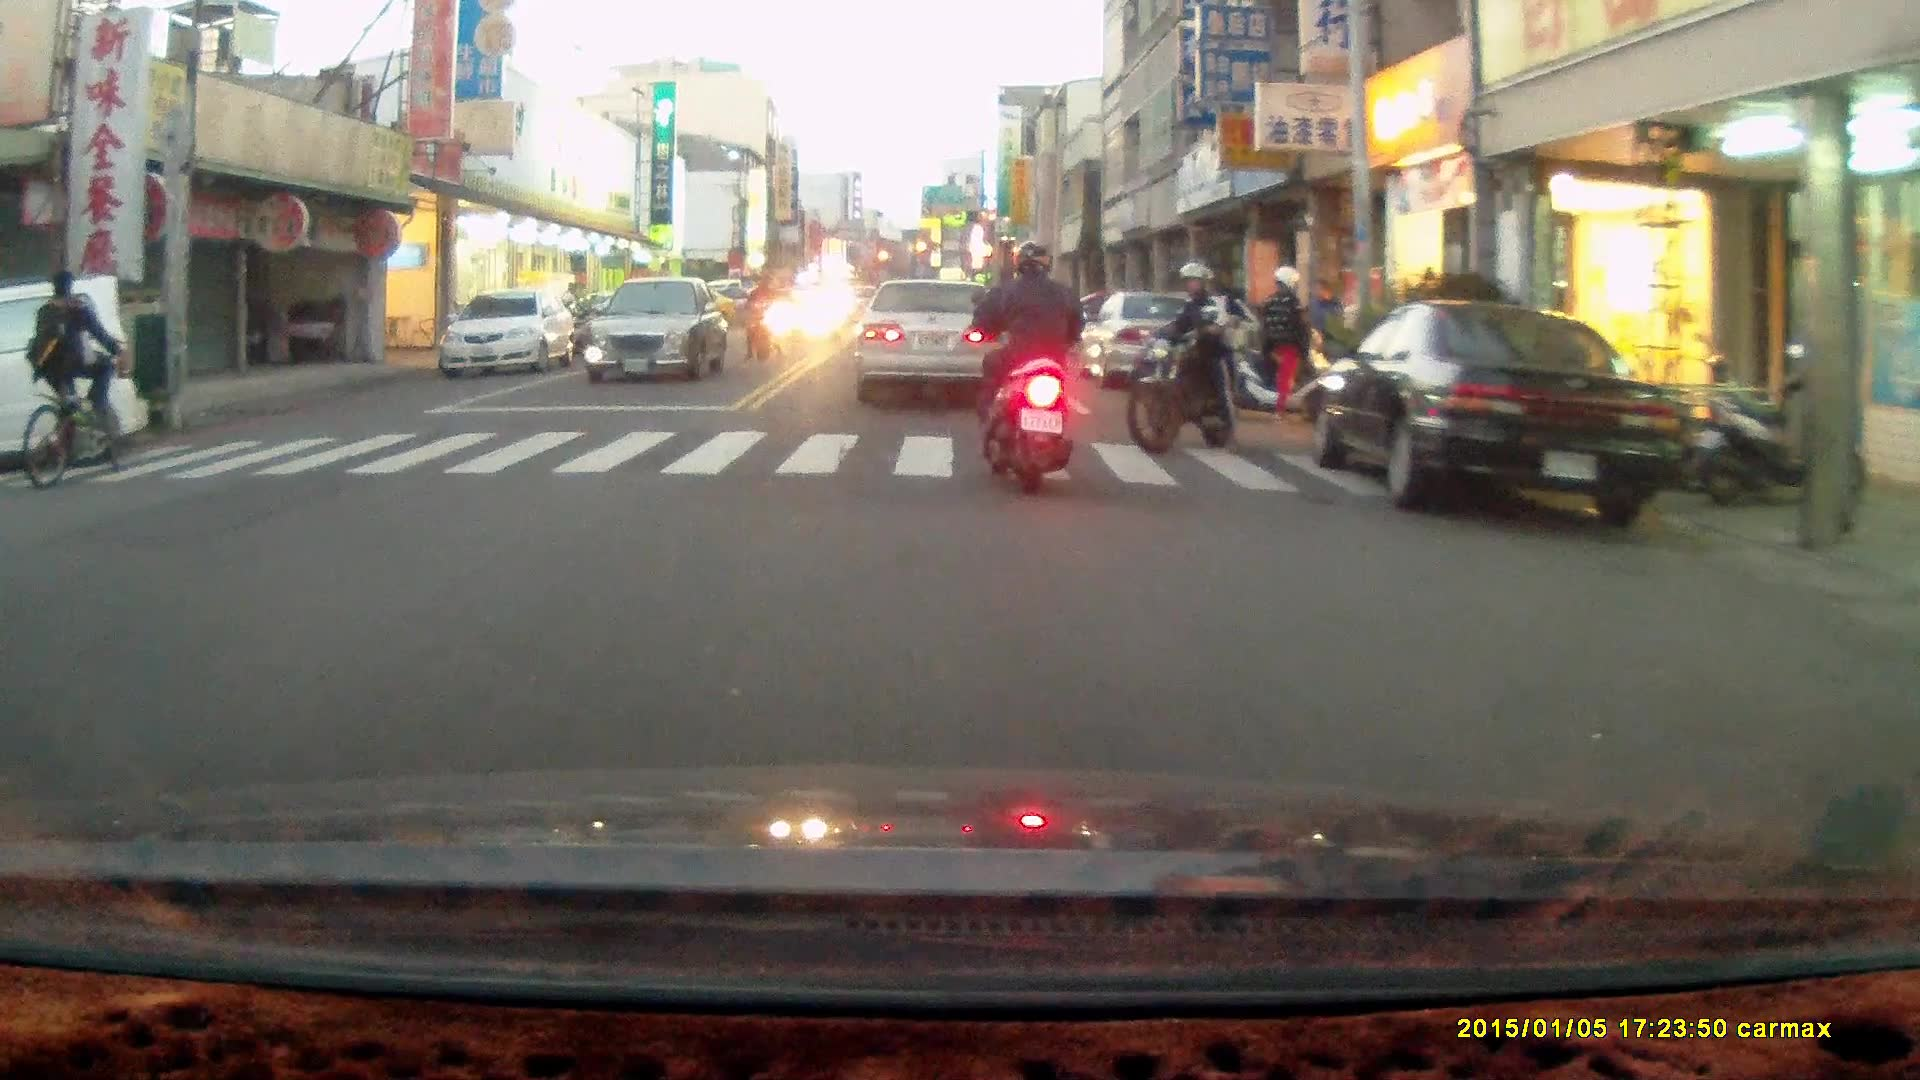pedestrian: (1263, 264, 1308, 427), (1309, 278, 1345, 388)
rider: (968, 240, 1089, 498), (1122, 260, 1267, 451), (18, 272, 122, 499), (738, 273, 782, 358)
vehicle: (1314, 303, 1686, 529), (1, 270, 151, 465), (851, 278, 1007, 408), (1077, 292, 1238, 393), (586, 278, 732, 389), (438, 288, 575, 377)
